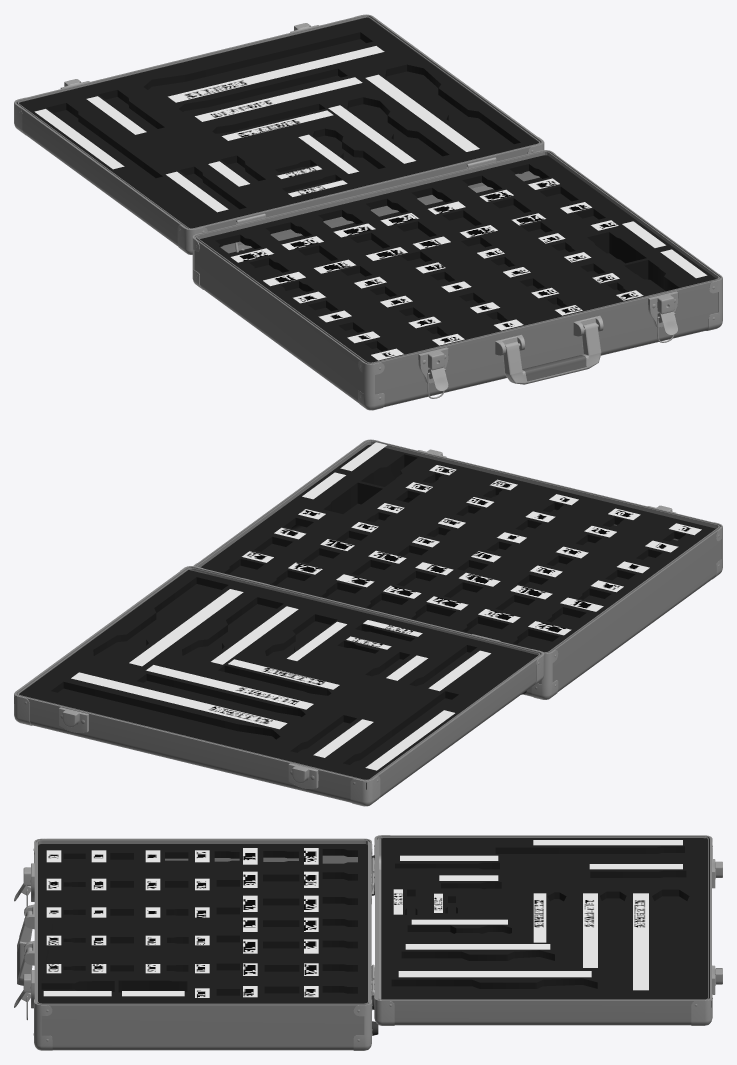
File: GJX_ALL_V1.FBX
The picture shows the model from 3 angles, top to bottom: view 1: azimuth 30°, elevation 25°; view 2: azimuth 150°, elevation 25°; view 3: azimuth 270°, elevation 25°; orthographic projection. The views are drawn at different scales.
Parts seen in each view (by area): view 1: gongjuxiang_ban (×2), gongjuxiang_ban2 (×2), gongjuxiang_down, gongjuxiang_wenzi, gongjuxiang_up; view 2: gongjuxiang_ban2 (×2), gongjuxiang_ban (×2), gongjuxiang_wenzi, gongjuxiang_up, gongjuxiang_down; view 3: gongjuxiang_ban2 (×2), gongjuxiang_ban (×2), gongjuxiang_down, gongjuxiang_wenzi, gongjuxiang_up.
Boxes of the visible parts, x1,y1,x2,y2 form: gongjuxiang_ban (×2): (17,17,538,228); gongjuxiang_ban2 (×2): (200,155,716,362); gongjuxiang_down: (192,150,722,410); gongjuxiang_wenzi: (34,46,707,360); gongjuxiang_up: (14,14,544,254); gongjuxiang_ban2 (×2): (200,444,715,651); gongjuxiang_ban (×2): (14,570,538,789); gongjuxiang_wenzi: (71,442,701,770); gongjuxiang_up: (14,566,544,806); gongjuxiang_down: (193,439,722,699); gongjuxiang_ban2 (×2): (38,844,367,1003); gongjuxiang_ban (×2): (381,838,711,1007); gongjuxiang_down: (14,838,378,1050); gongjuxiang_wenzi: (43,840,682,997); gongjuxiang_up: (371,835,722,1025).
Bounding box in the file's own units: 53.69 × 7.95 × 96.42.
